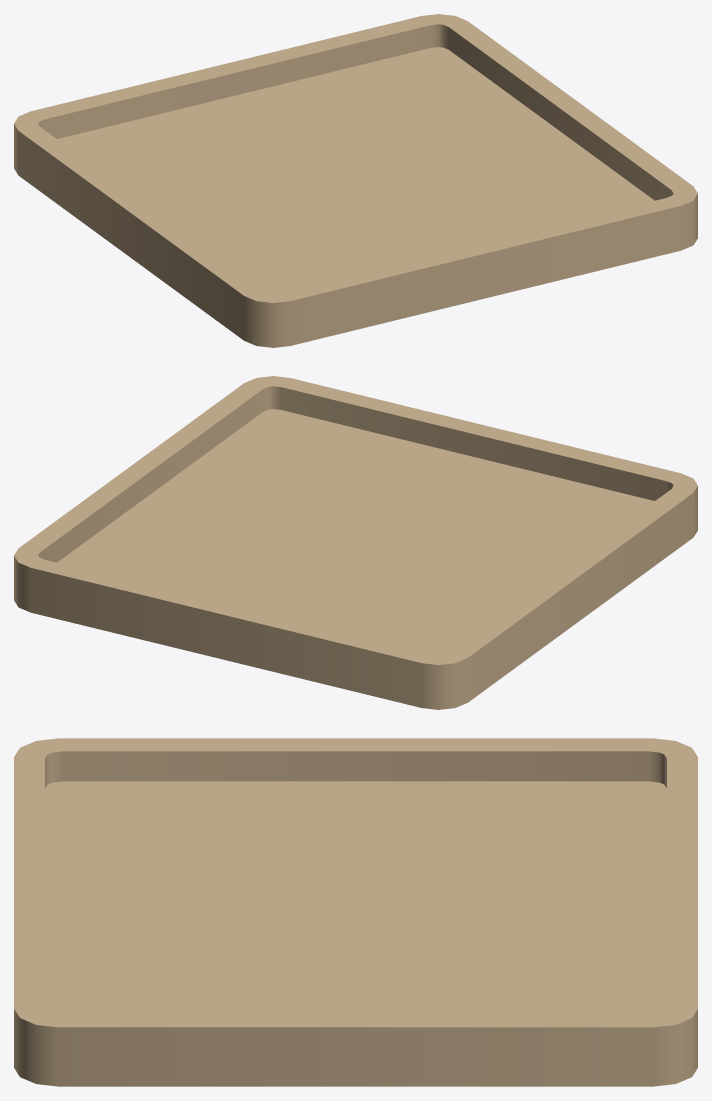
Rendered from rl_tray_2.fbx.
3 views of the same model, one above another, from view 1: azimuth 30°, elevation 25°; view 2: azimuth 150°, elevation 25°; view 3: azimuth 270°, elevation 25° (orthographic). The views are drawn at different scales.
Parts seen in each view (by area): view 1: tray; view 2: tray; view 3: tray.
Boxes of the visible parts, left/top/right/bottom form: tray: left=14, top=14, right=697, bottom=347; tray: left=14, top=376, right=697, bottom=709; tray: left=14, top=738, right=697, bottom=1086.
Size of the model in its own units: 208 by 19.85 by 208.
